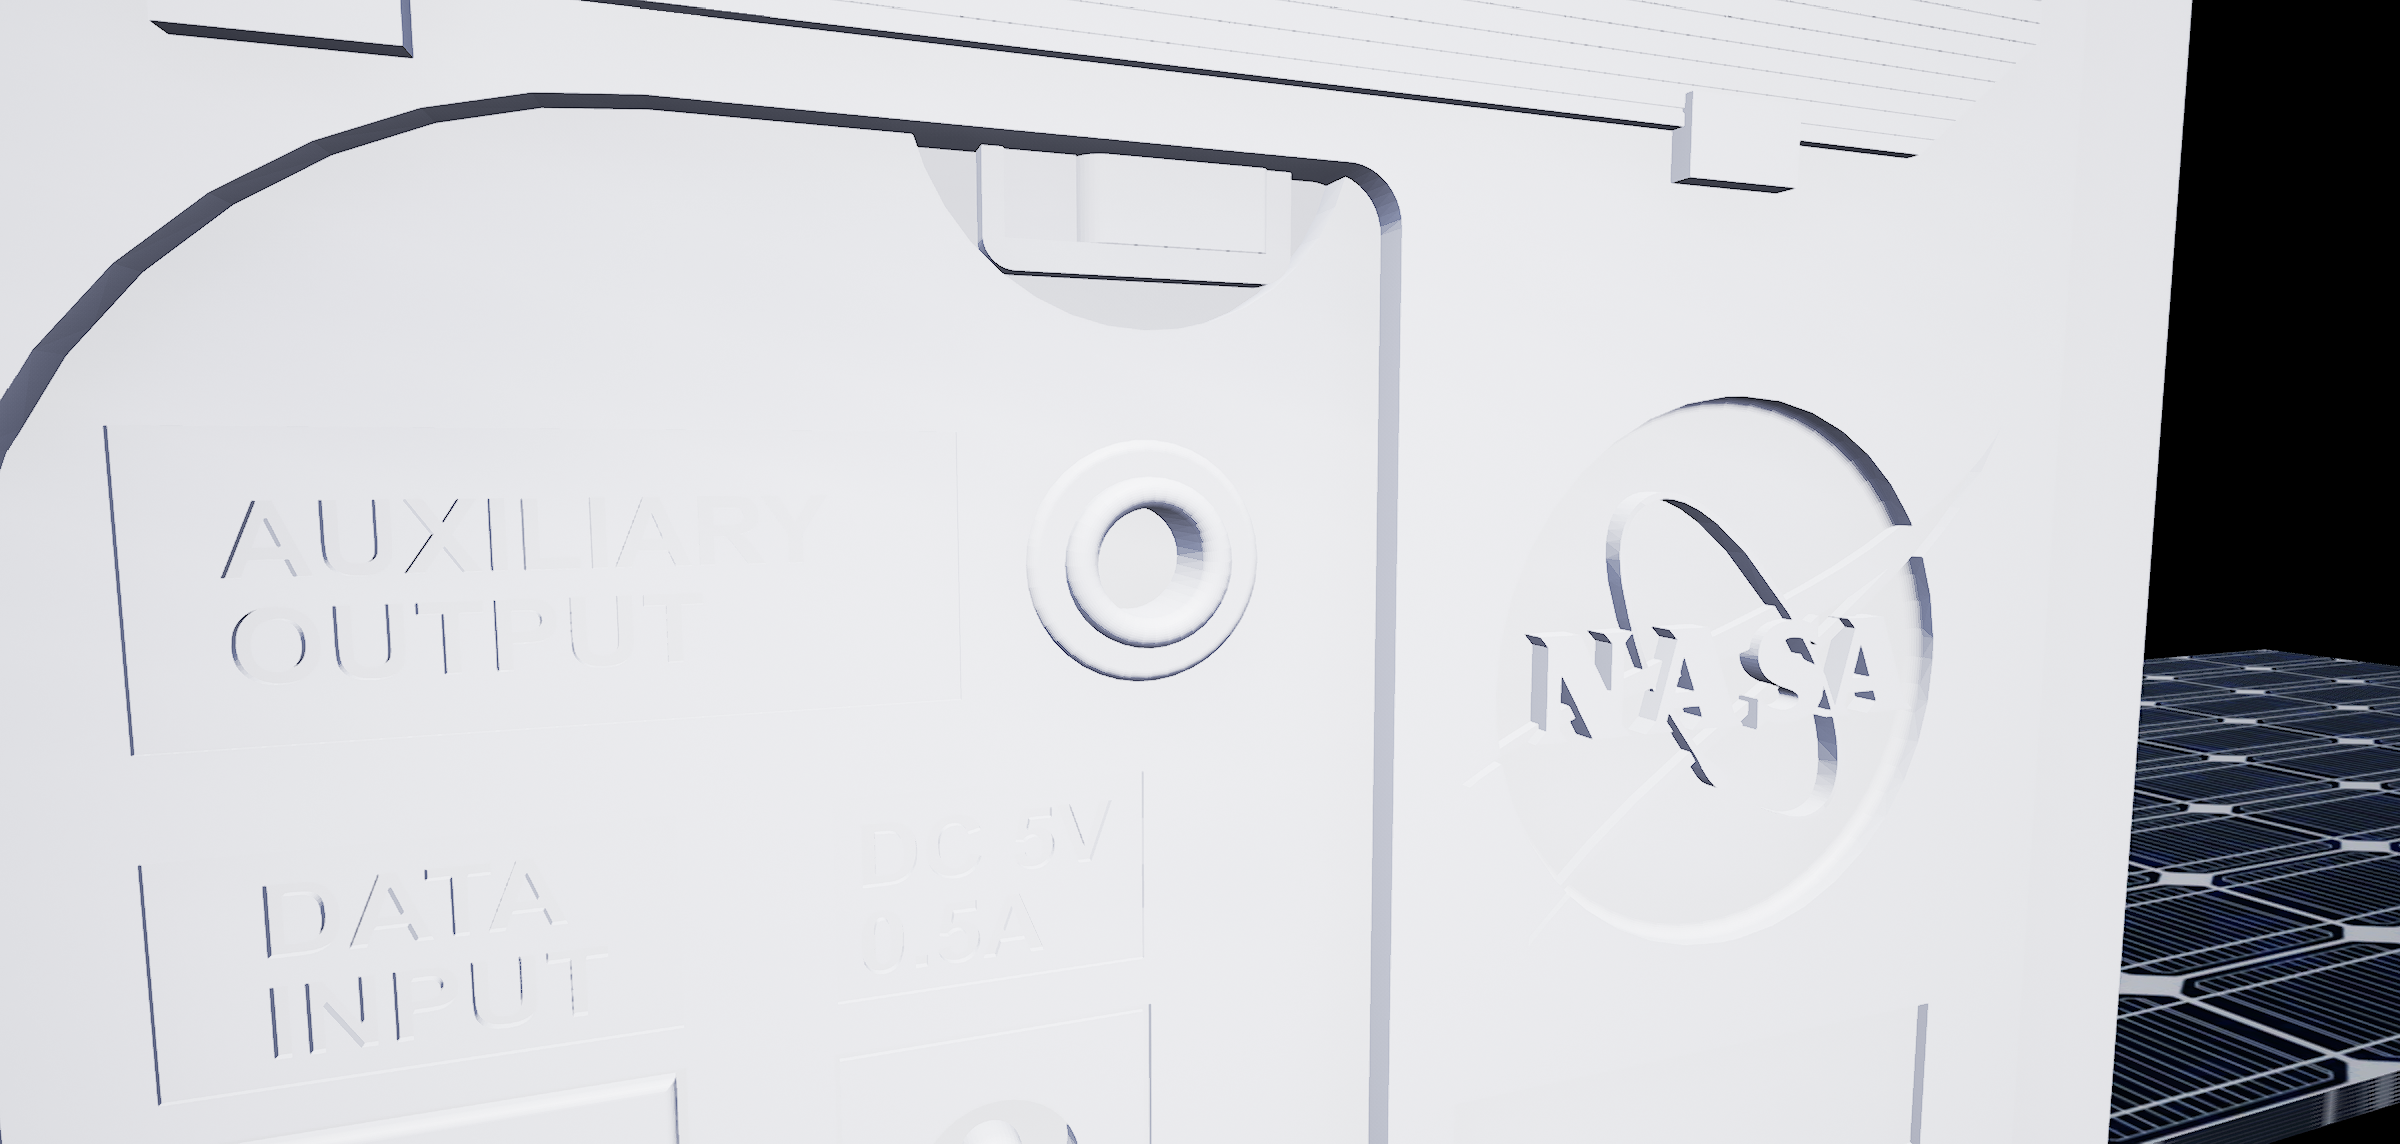aux: (1012, 426, 1257, 694)
dc: (921, 1086, 1096, 1144)
